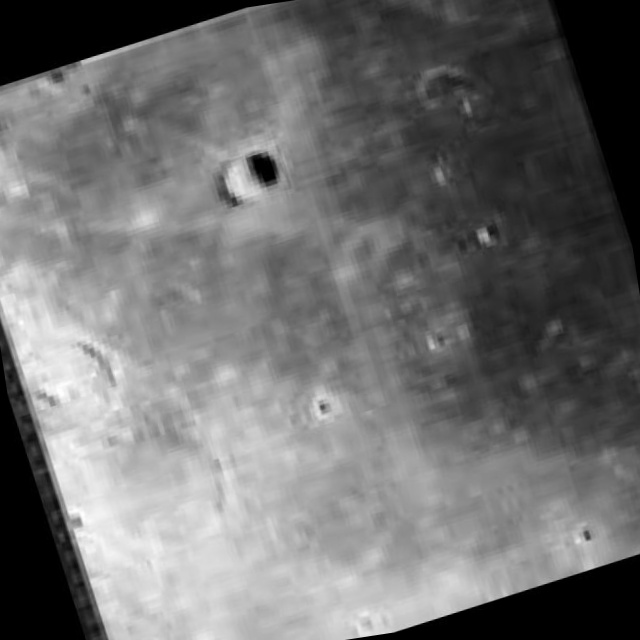crater: (245, 140, 312, 195)
